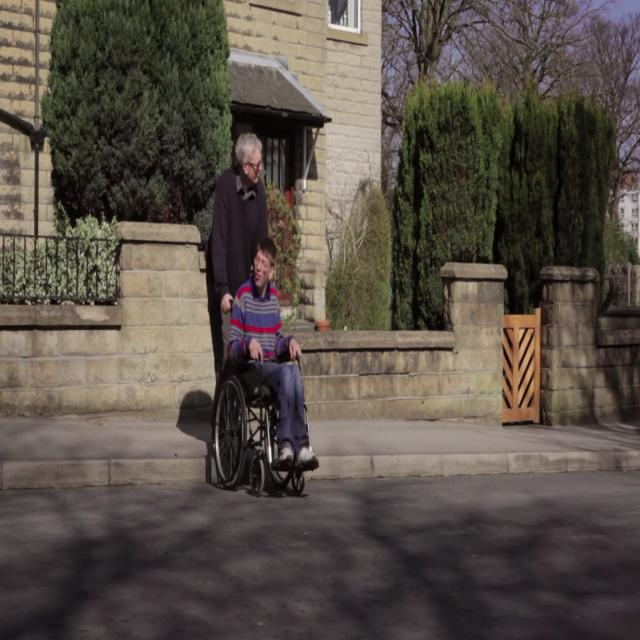wheelchairs: (202, 323, 322, 507)
